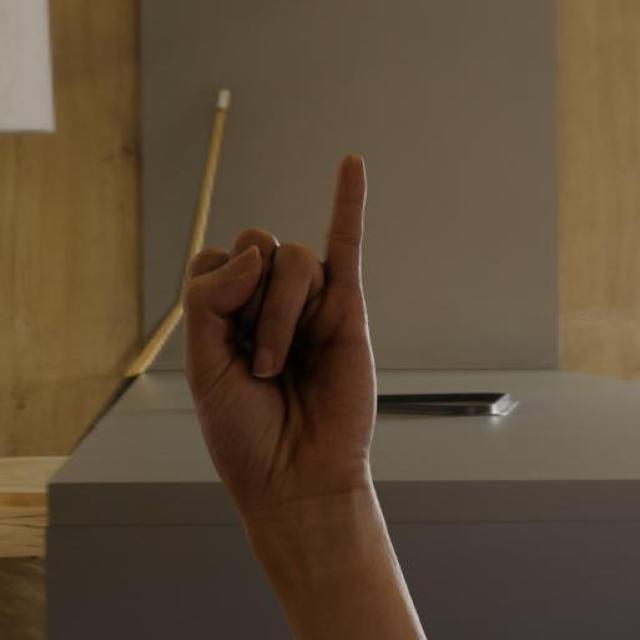I: (169, 146, 394, 556)
